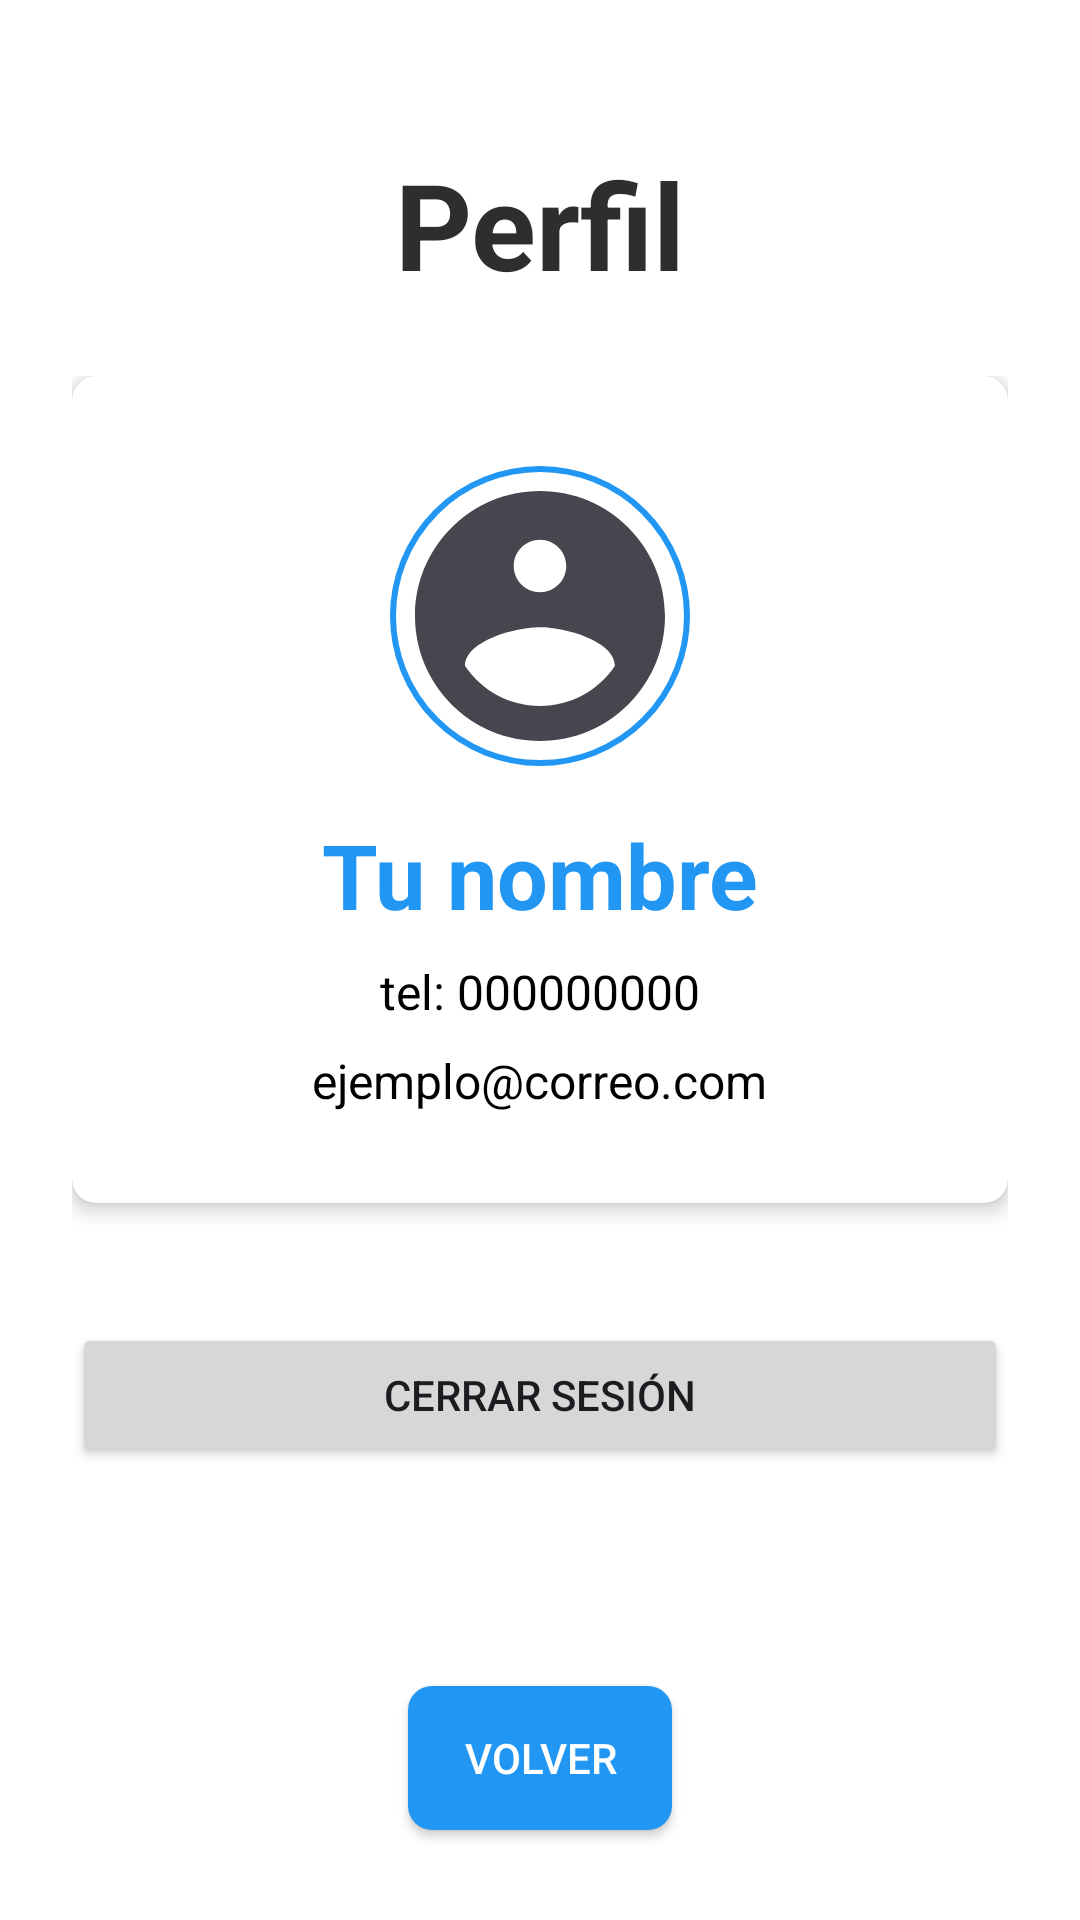

Screen size 1080w x 1920h. Icon name, then its box in pixels as (x1, y1, x2, y2):
Foto de perfil: (390, 466, 690, 766)
